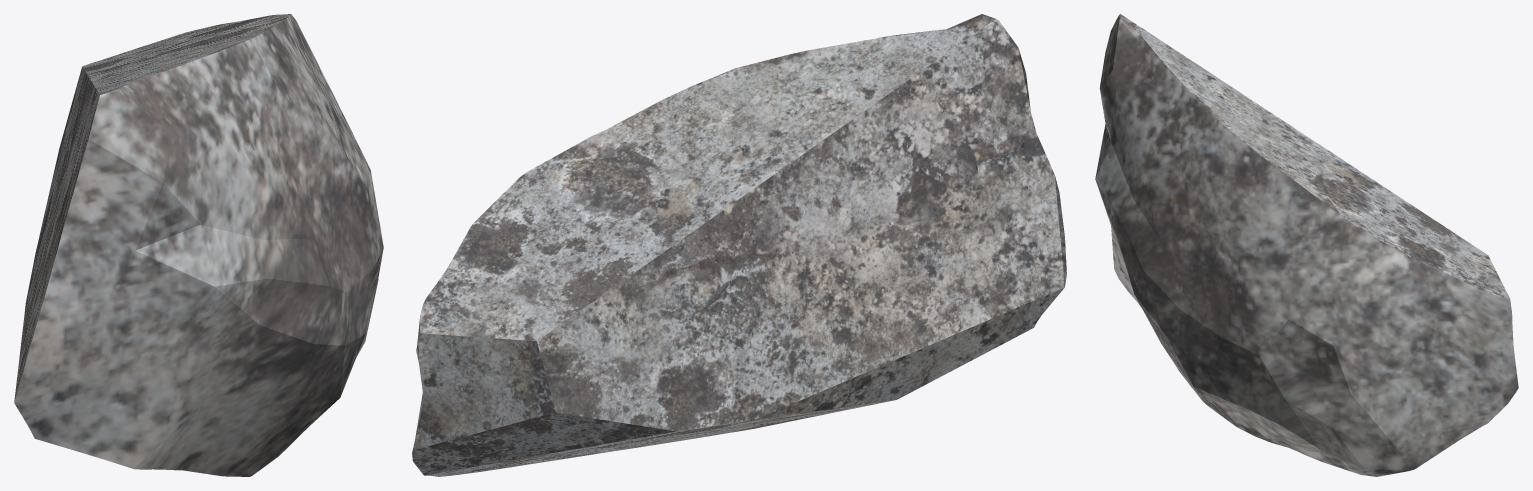
Rendered from Asteroid_Large_001_02_007.fbx.
3 views of the same model, side by side, from view 1: azimuth 30°, elevation 25°; view 2: azimuth 150°, elevation 25°; view 3: azimuth 270°, elevation 25° (orthographic). The views are drawn at different scales.
Parts seen in each view (by area): view 1: Asteroid_Large_001_02_007; view 2: Asteroid_Large_001_02_007; view 3: Asteroid_Large_001_02_007.
Boxes of the visible parts, x1,y1,x2,y2 form: Asteroid_Large_001_02_007: (14,14,383,476); Asteroid_Large_001_02_007: (412,14,1066,476); Asteroid_Large_001_02_007: (1095,14,1518,476).
Size of the model in its own units: 23.19 by 20.69 by 24.1.
